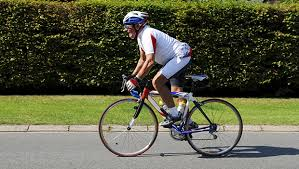helmet: (122, 8, 147, 23)
